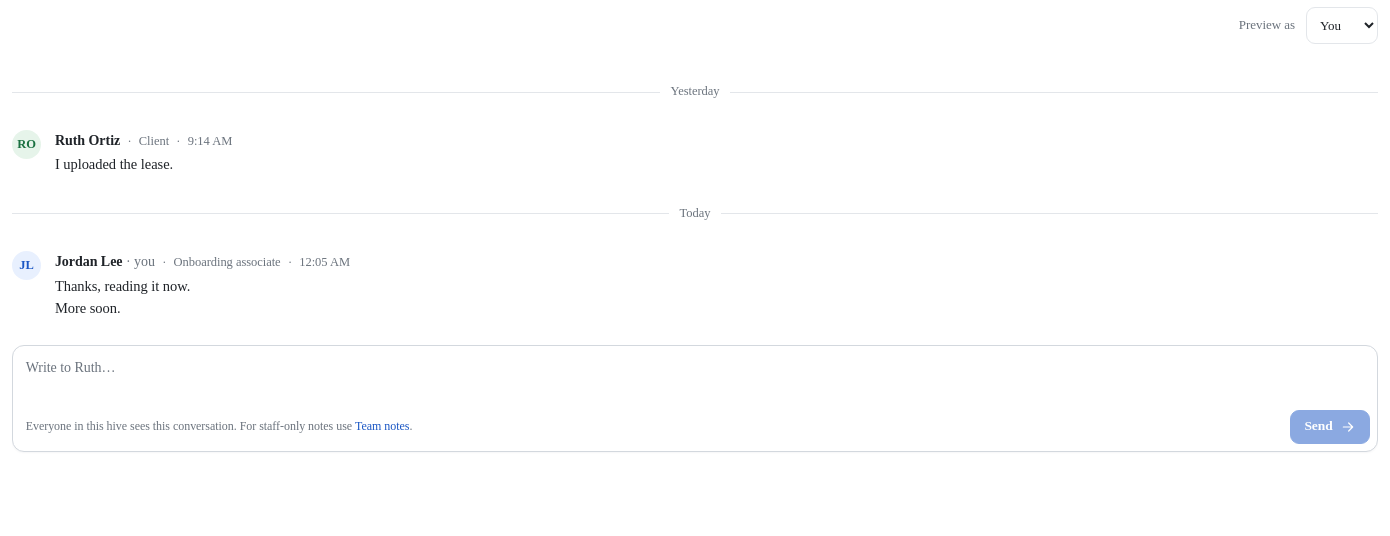
it: HiveConversation › sends optimistically, then replaces the bubble with the server row
This screenshot has width=1390, height=536.
Type "  Here is the update.  " into the text box named "Message" at point(695, 375), box [13,346,1377,404]
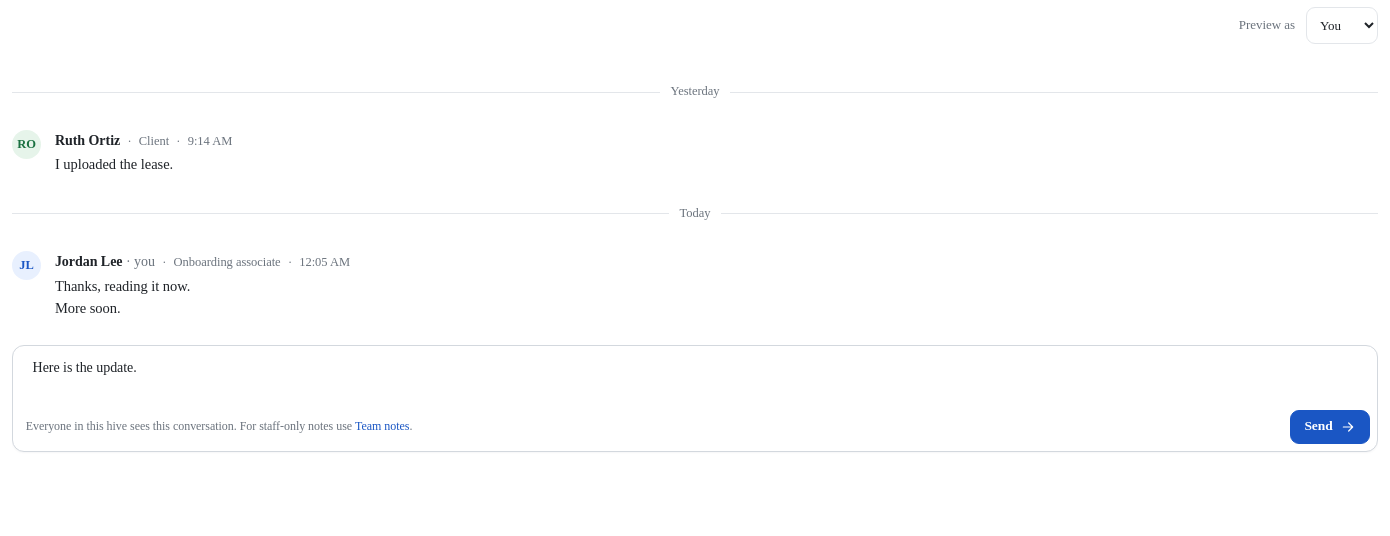
Click the button "Send" at point(1330, 427), box [1290,410,1370,444]
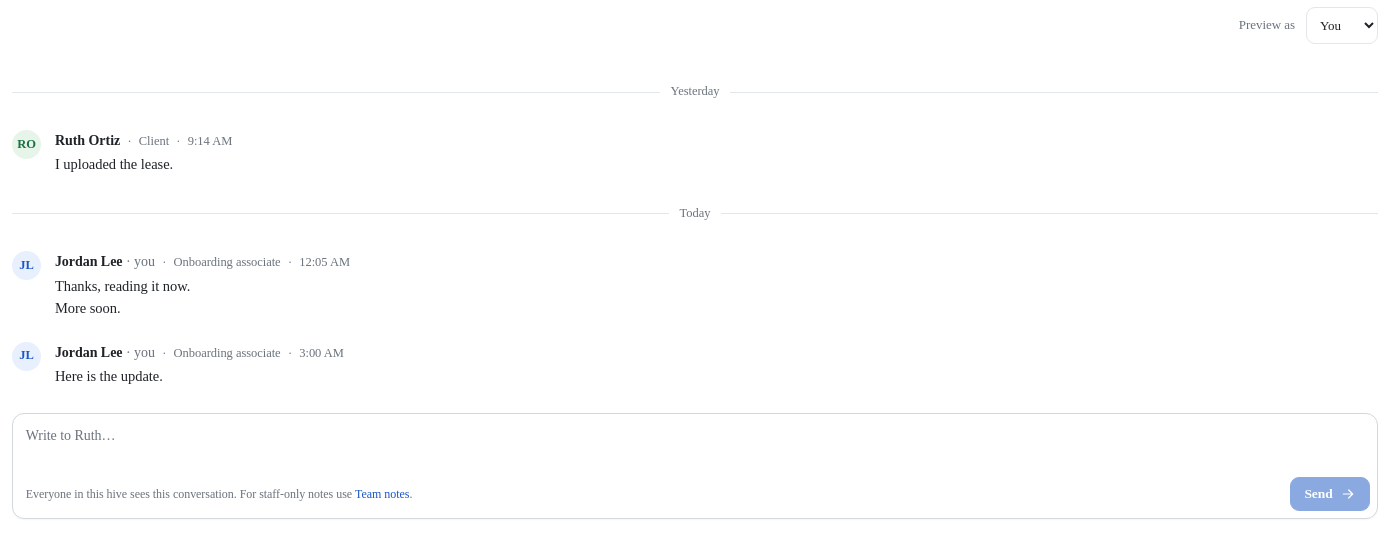
Expected: the text box named "Message" is empty, [13,414,1377,472]
Expected: the element with test id "hive-message" shows "Here is the update.", [55,368,163,384]
